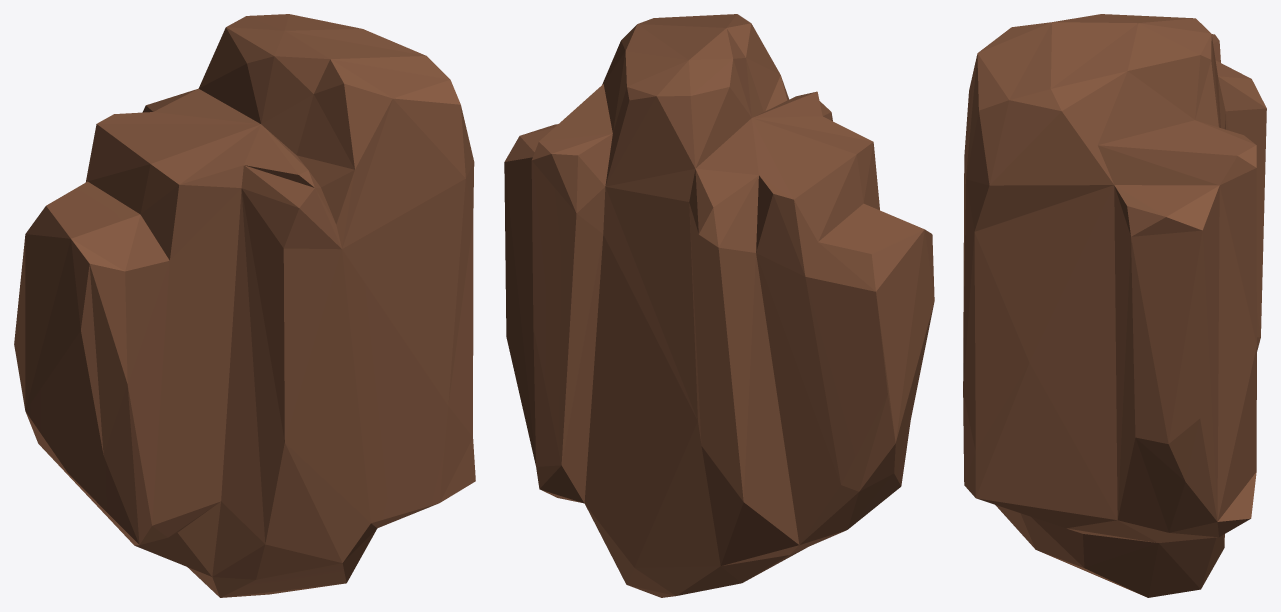
The model's file is rock_tall.glb.
3 renders of one model, left to right at view 1: azimuth 30°, elevation 25°; view 2: azimuth 150°, elevation 25°; view 3: azimuth 270°, elevation 25°, orthographic. The views are drawn at different scales.
Visible parts, largest first — view 1: SM_Env_Rock_07; view 2: SM_Env_Rock_07; view 3: SM_Env_Rock_07.
Part boxes in pixels (<box>): SM_Env_Rock_07: <box>14,14,475,597</box>; SM_Env_Rock_07: <box>504,14,934,597</box>; SM_Env_Rock_07: <box>963,14,1266,597</box>.
Bounding box in the file's own units: 6.59 × 8.56 × 4.22.
Materials: 1 (1 with a texture image).
